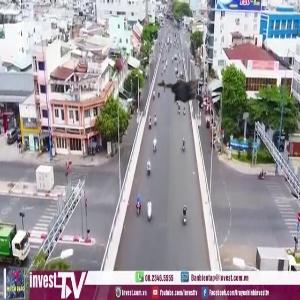drone: (153, 63, 217, 127)
